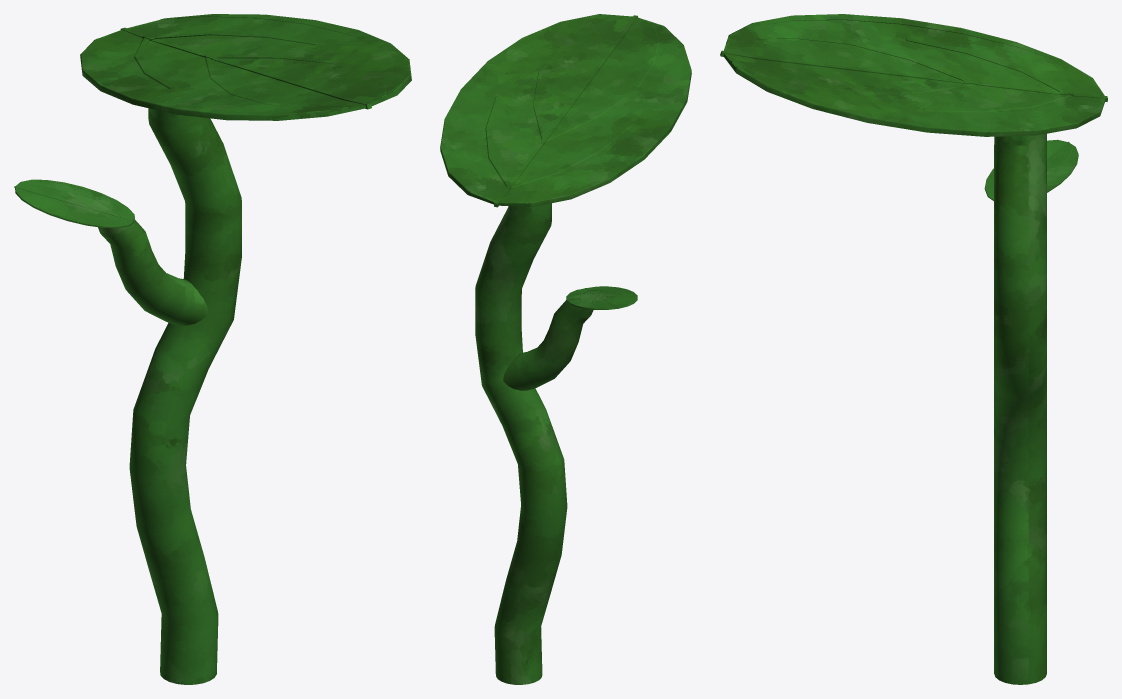
The model's file is Muda Abobora.fbx.
3 renders of one model, left to right at view 1: azimuth 30°, elevation 25°; view 2: azimuth 150°, elevation 25°; view 3: azimuth 270°, elevation 25°, orthographic. The views are drawn at different scales.
Parts seen in each view (by area): view 1: Muda Abobora; view 2: Muda Abobora; view 3: Muda Abobora.
Boxes of the visible parts, x1,y1,x2,y2 form: Muda Abobora: (14,14,411,684); Muda Abobora: (440,14,691,684); Muda Abobora: (720,14,1107,684).
Size of the model in its own units: 5.24 by 12.44 by 6.93.
Materials: 1 (1 with a texture image).
